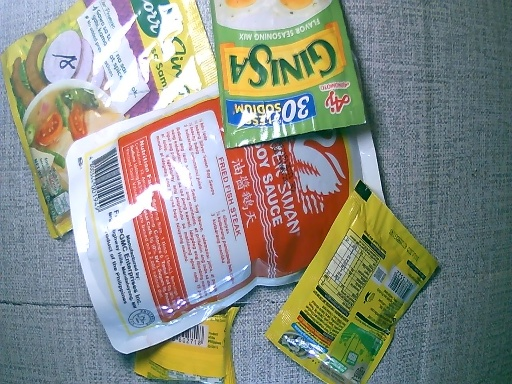plastic: (63, 82, 392, 348), (1, 1, 217, 240), (274, 187, 440, 384), (215, 1, 370, 146), (130, 303, 241, 384)
